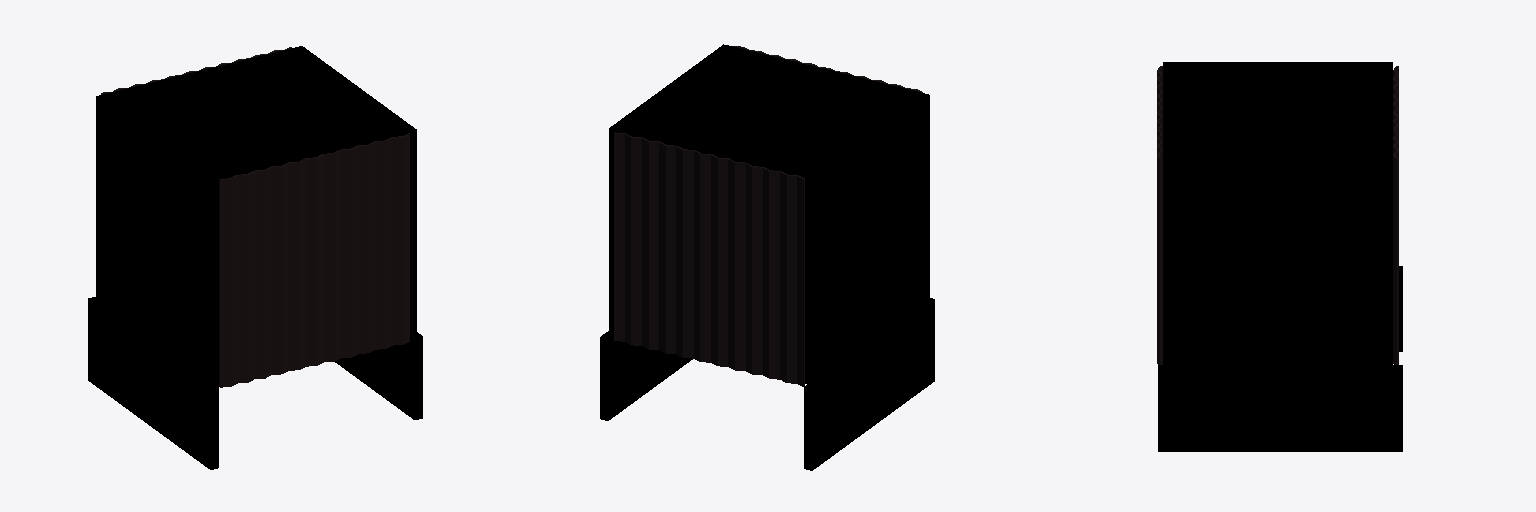
The model's file is securityBox.obj.
The picture shows the model from 3 angles: view 1: azimuth 30°, elevation 25°; view 2: azimuth 150°, elevation 25°; view 3: azimuth 270°, elevation 25°; orthographic projection.
Parts seen in each view (by area): view 1: SecurityBox; view 2: SecurityBox; view 3: SecurityBox.
Part boxes in pixels (x1,y1,x2,y2): SecurityBox: (88,46,422,469); SecurityBox: (600,44,934,470); SecurityBox: (1157,62,1402,451).
Size of the model in its own units: 3.44 by 4.46 by 3.46.